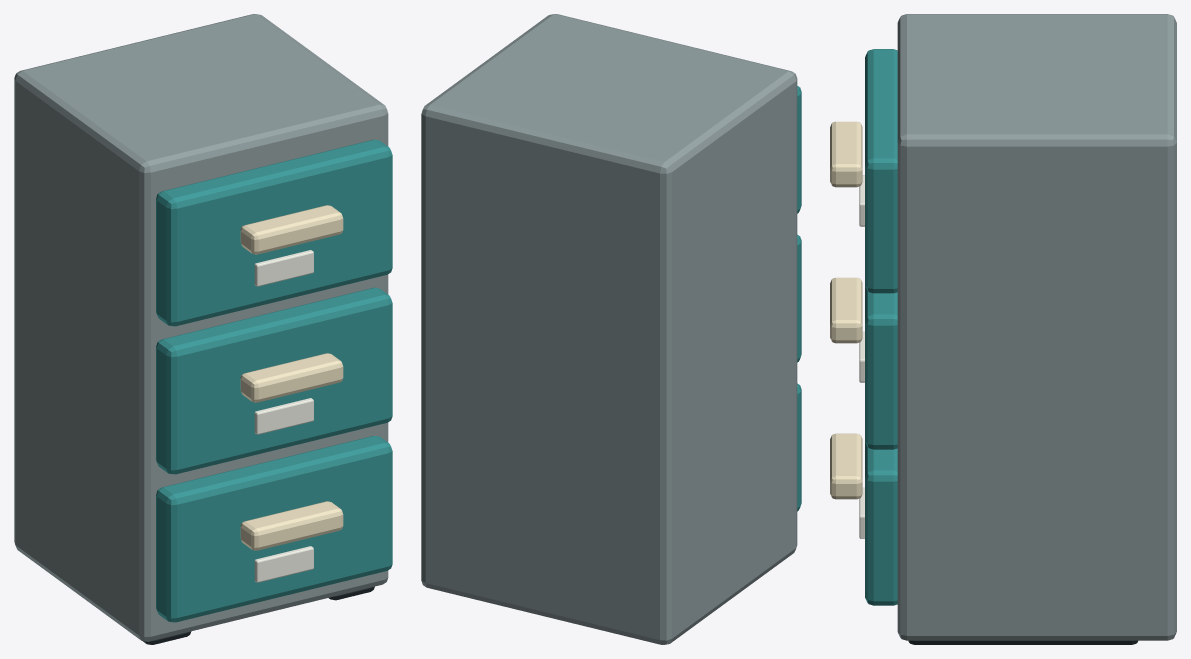
Rendered from S037_filing_cabinet.glb.
3 views of the same model, side by side, from view 1: azimuth 30°, elevation 25°; view 2: azimuth 150°, elevation 25°; view 3: azimuth 270°, elevation 25° (orthographic). The views are drawn at different scales.
Parts seen in each view (by area): view 1: cabinet_shell, drawer_front.001, drawer_front, drawer_front.002, drawer_handle, drawer_handle.002, drawer_handle.001, blank_label, blank_label.001, blank_label.002; view 2: cabinet_shell, drawer_front, drawer_front.001, drawer_front.002; view 3: cabinet_shell, drawer_front.002, drawer_front, drawer_front.001, drawer_handle, drawer_handle.001, drawer_handle.002, cabinet_foot.001.
Part boxes in pixels (left/top/right/bottom): cabinet_shell: left=14, top=14, right=388, bottom=641; drawer_front.001: left=156, top=287, right=392, bottom=474; drawer_front: left=156, top=436, right=392, bottom=622; drawer_front.002: left=156, top=139, right=392, bottom=326; drawer_handle: left=240, top=501, right=343, bottom=550; drawer_handle.002: left=240, top=205, right=343, bottom=254; drawer_handle.001: left=240, top=353, right=343, bottom=402; blank_label: left=254, top=546, right=313, bottom=582; blank_label.001: left=254, top=398, right=313, bottom=434; blank_label.002: left=254, top=250, right=313, bottom=286; cabinet_shell: left=421, top=14, right=797, bottom=644; drawer_front: left=797, top=383, right=801, bottom=511; drawer_front.001: left=797, top=234, right=801, bottom=362; drawer_front.002: left=797, top=86, right=801, bottom=213; cabinet_shell: left=897, top=14, right=1176, bottom=640; drawer_front.002: left=865, top=49, right=897, bottom=293; drawer_front: left=865, top=442, right=897, bottom=605; drawer_front.001: left=865, top=286, right=897, bottom=449; drawer_handle: left=830, top=433, right=862, bottom=499; drawer_handle.001: left=830, top=277, right=862, bottom=343; drawer_handle.002: left=830, top=121, right=862, bottom=187; cabinet_foot.001: left=908, top=640, right=1137, bottom=644.
Bounding box in the file's own units: 0.65 × 1.22 × 0.745.
